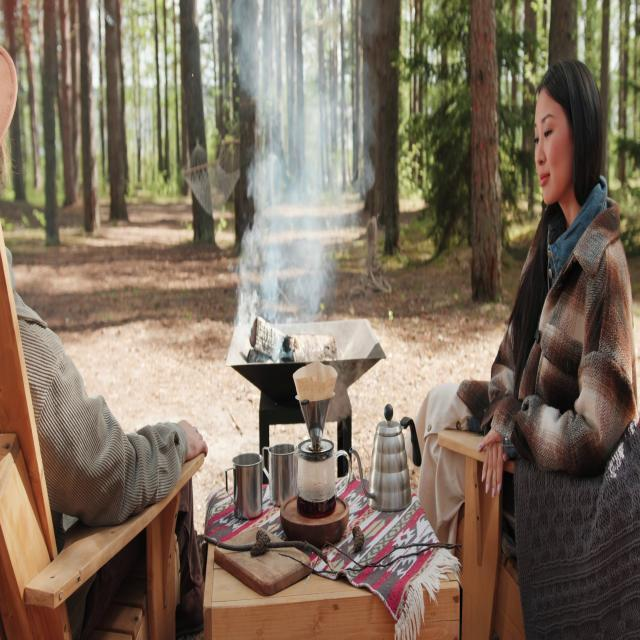Smoke: (215, 2, 376, 362)
